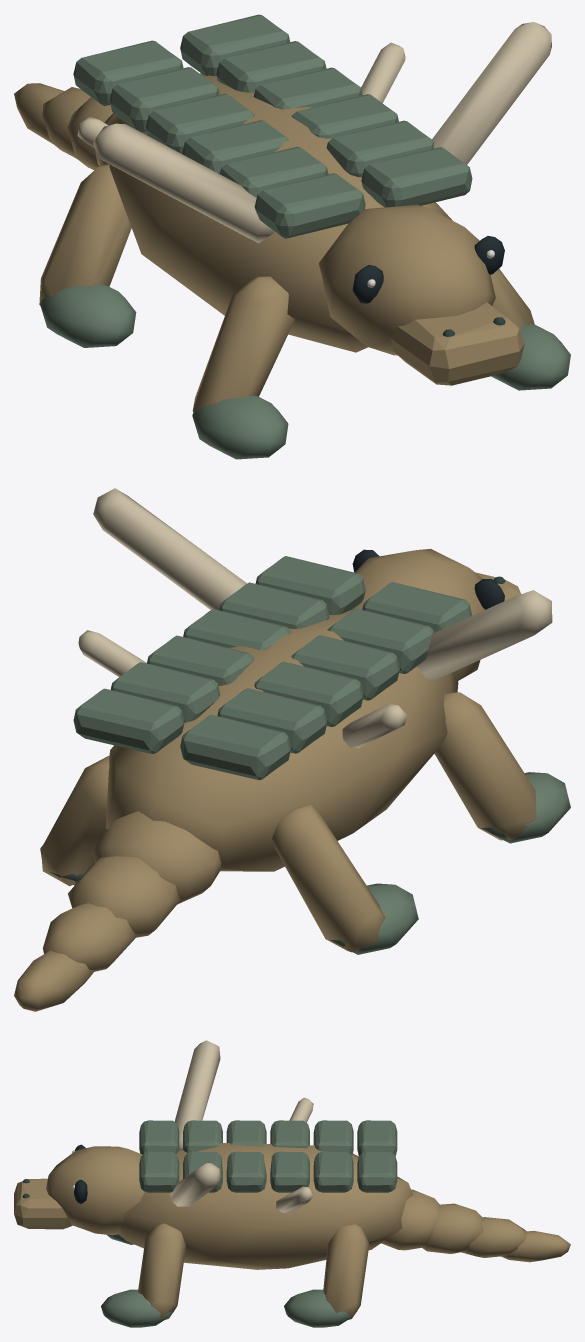
File: org_desmatosuchus.glb
3 views of the same model, one above another, from view 1: azimuth 30°, elevation 25°; view 2: azimuth 150°, elevation 25°; view 3: azimuth 270°, elevation 25° (orthographic). The views are drawn at different scales.
Visible parts, largest first — view 1: Body, Head, Leg_FR, Leg_BR, Tail, Leg_FL, Eye_R, Eye_L; view 2: Body, Tail, Leg_BR, Leg_FR, Leg_BL, Head, Eye_R; view 3: Body, Head, Tail, Leg_FL, Leg_BL.
Part boxes in pixels (left/top/right/bottom): Body: left=73, top=14, right=551, bottom=352; Head: left=318, top=204, right=524, bottom=385; Leg_FR: left=192, top=276, right=294, bottom=459; Leg_BR: left=39, top=164, right=136, bottom=347; Tail: left=14, top=83, right=116, bottom=170; Leg_FL: left=490, top=268, right=570, bottom=390; Eye_R: left=352, top=265, right=383, bottom=303; Eye_L: left=474, top=236, right=504, bottom=274; Body: left=73, top=488, right=552, bottom=871; Tail: left=14, top=811, right=221, bottom=1011; Leg_BR: left=272, top=804, right=418, bottom=954; Leg_FR: left=434, top=692, right=570, bottom=843; Leg_BL: left=40, top=755, right=109, bottom=886; Head: left=352, top=548, right=520, bottom=681; Eye_R: left=474, top=579, right=504, bottom=609; Body: left=117, top=1040, right=412, bottom=1269; Head: left=14, top=1146, right=144, bottom=1235; Tail: left=381, top=1189, right=570, bottom=1262; Leg_FL: left=101, top=1223, right=185, bottom=1327; Leg_BL: left=284, top=1224, right=369, bottom=1327.
Bounding box in the file's own units: 1.42 × 0.9 × 2.5.
